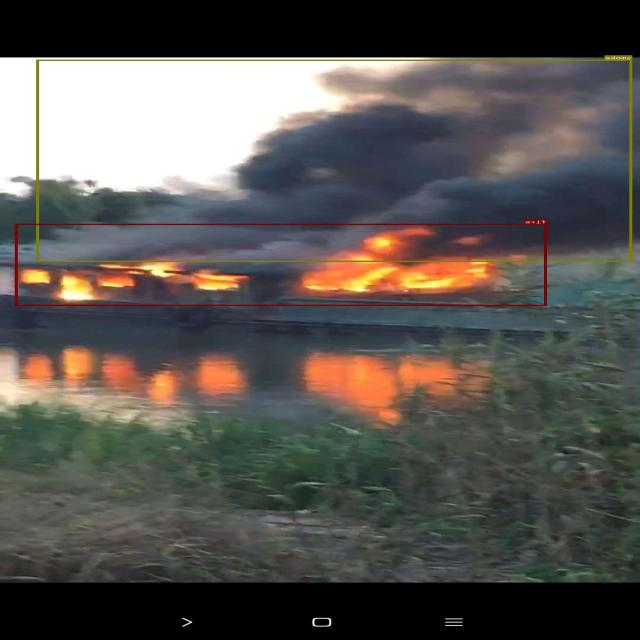fire: (15, 224, 548, 306)
smoke: (37, 60, 633, 262)
